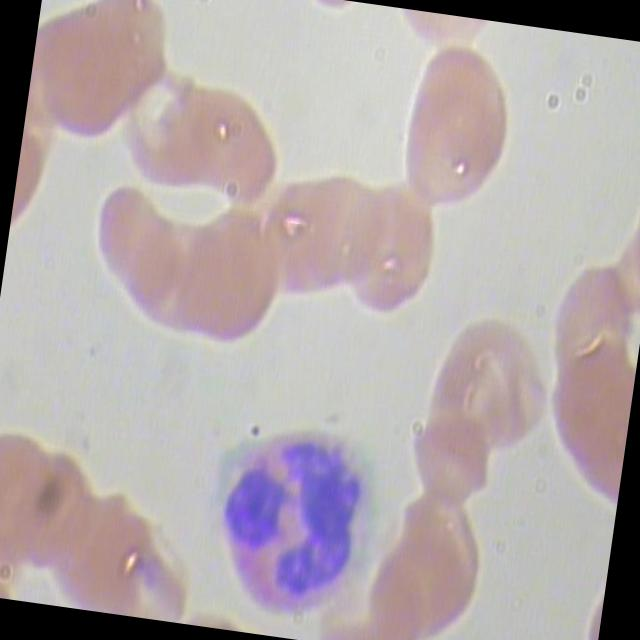RBC: (384, 39, 534, 223), (414, 305, 564, 480), (326, 164, 451, 328), (292, 170, 397, 318), (86, 183, 191, 313)
WBC: (200, 425, 397, 638)
